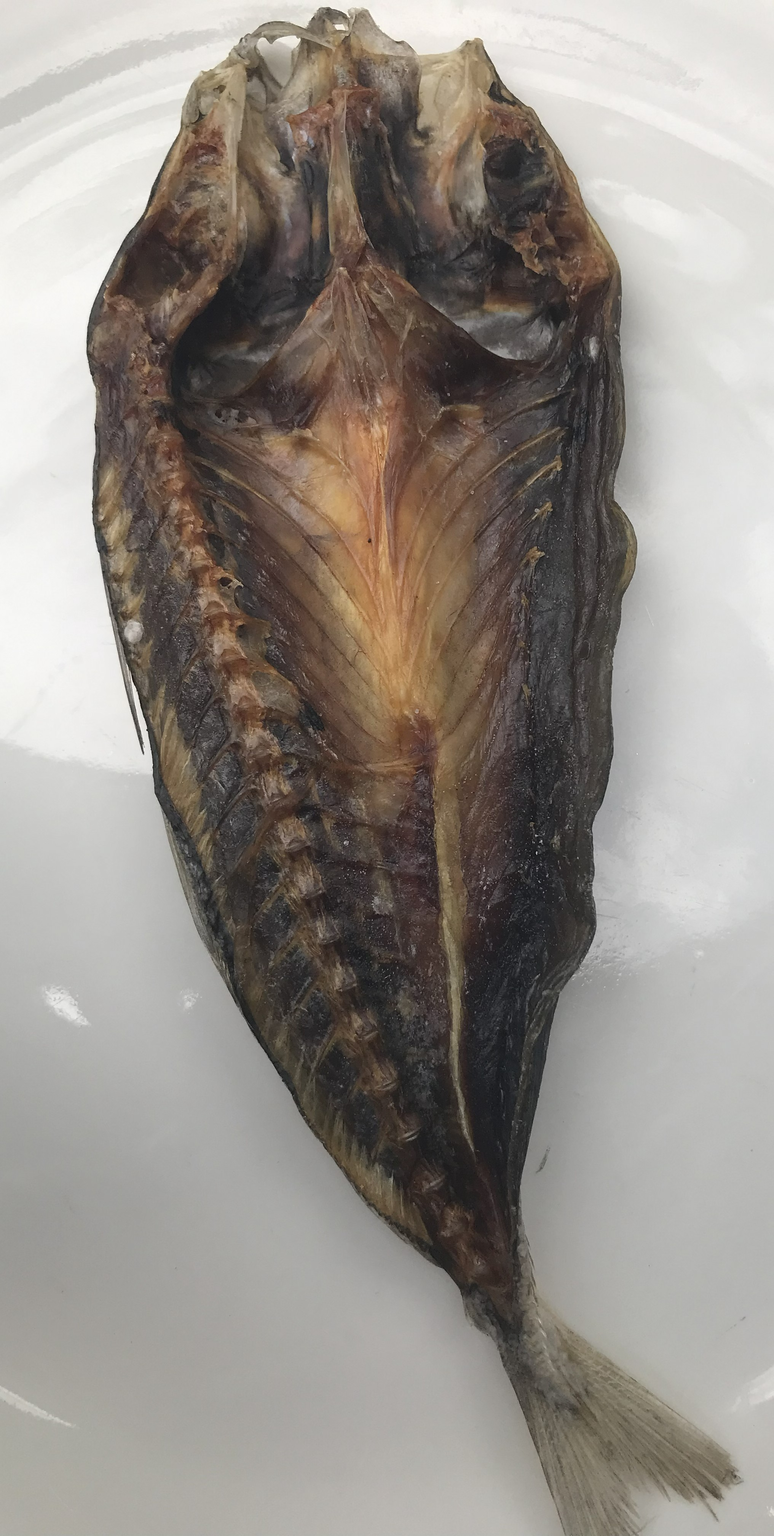barol_dried_: (86, 8, 741, 1536)
